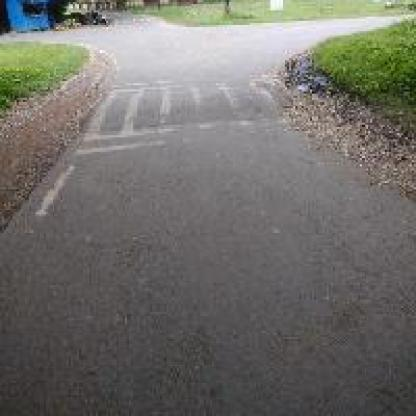Speed Bump: (73, 71, 295, 158)
